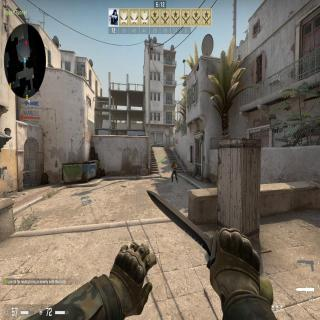T-Body: (171, 160, 178, 183)
T-Head: (173, 161, 175, 164)
